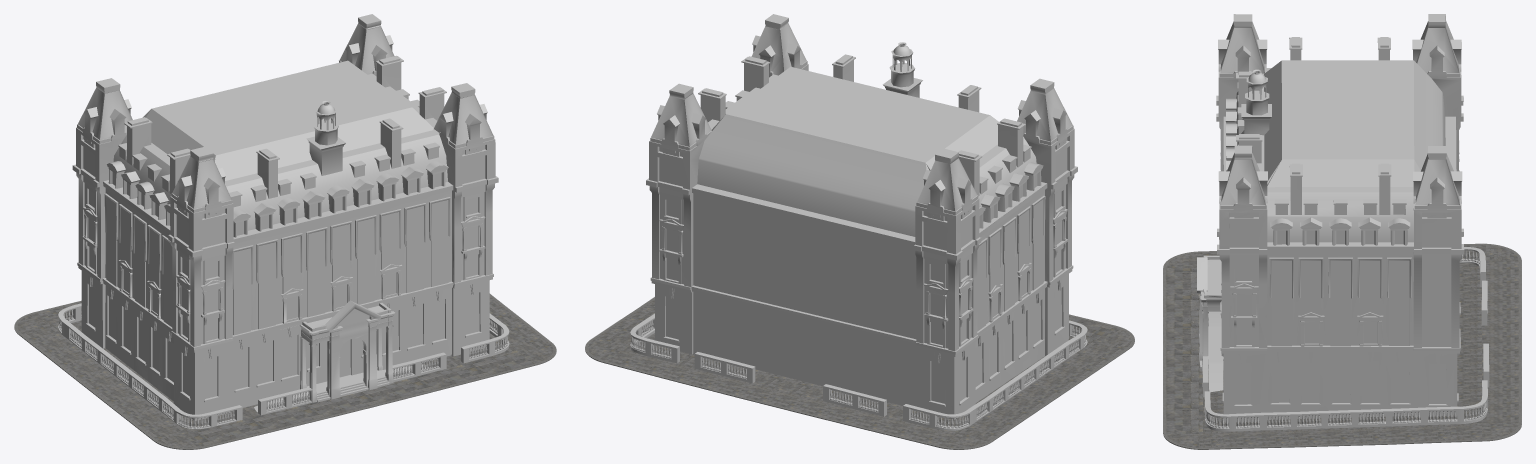
The model's file is London_Building.fbx.
3 views of the same model, side by side, from view 1: azimuth 30°, elevation 25°; view 2: azimuth 150°, elevation 25°; view 3: azimuth 270°, elevation 25° (orthographic). The views are drawn at different scales.
Parts seen in each view (by area): view 1: Building, Plane.001, Plane.002; view 2: Building, Plane.001, Plane.002; view 3: Building, Plane.001, Plane.002.
Boxes of the visible parts, x1=… form: Building: x1=58, y1=14, x2=509, y2=429; Plane.001: x1=17, y1=296, x2=553, y2=447; Plane.002: x1=14, y1=293, x2=556, y2=449; Building: x1=630, y1=14, x2=1087, y2=430; Plane.001: x1=588, y1=299, x2=1131, y2=447; Plane.002: x1=585, y1=297, x2=1134, y2=449; Building: x1=1197, y1=14, x2=1489, y2=431; Plane.001: x1=1166, y1=245, x2=1518, y2=447; Plane.002: x1=1163, y1=243, x2=1521, y2=449.
Size of the model in its own units: 5148 by 3384 by 3904.
